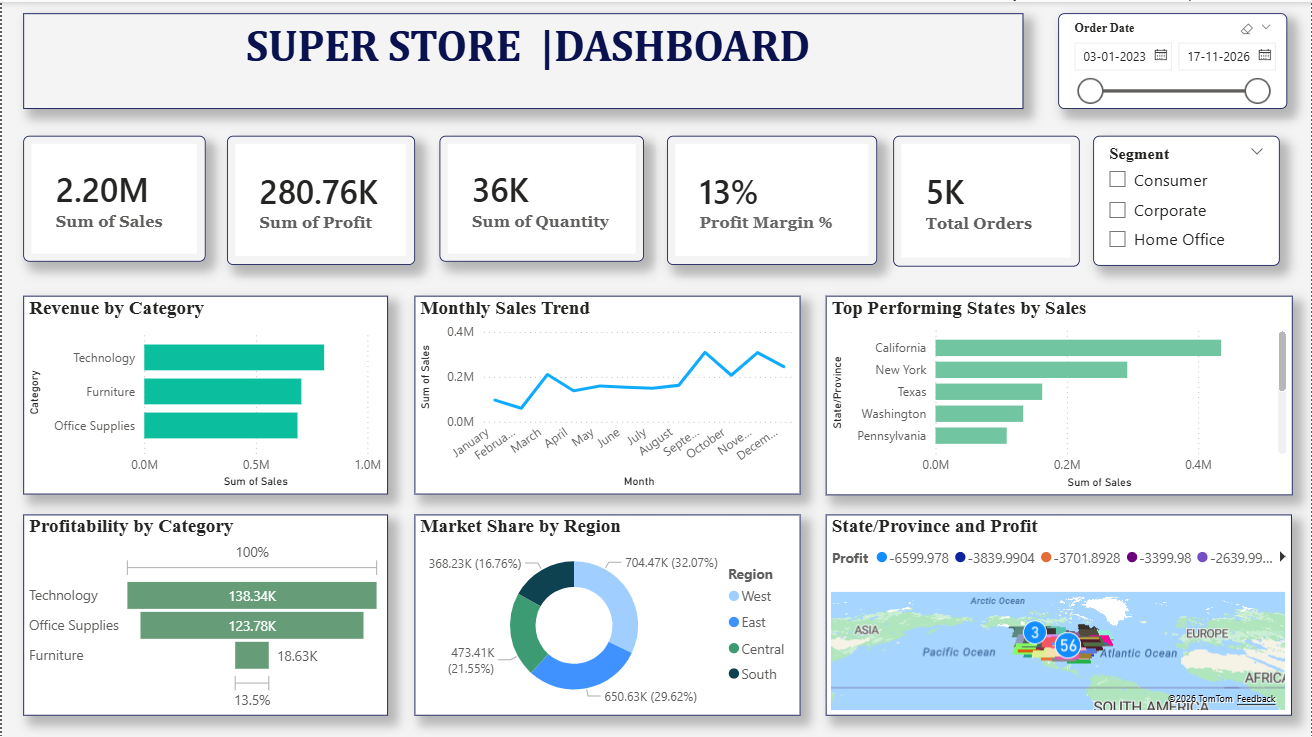

This screenshot's page, from the dashboard's own definition file:
{"tool":"powerbi","page":{"name":"Page 1","canvas":[1280,720],"ordinal":0},"visuals":[{"type":"cardVisual","fields":{"Data":["Sum(Orders.Sales)"]},"box":[20.6,130.4,178.4,123.5],"z":0},{"type":"barChart","title":"Revenue by Category","fields":{"Y":["Sum(Orders.Sales)"],"Category":["Orders.Category"]},"box":[20.8,287.4,357.1,194.4],"z":1000},{"type":"funnel","title":"Profitability by Category","fields":{"Y":["Sum(Orders.Profit)"],"Category":["Orders.Category"]},"box":[20.8,501.4,357.1,196.9],"z":2000},{"type":"clusteredBarChart","title":"Top Performing States by Sales","fields":{"Category":["Orders.State/Province"],"Y":["Sum(Orders.Sales)"]},"box":[805.5,286.8,456.9,194.9],"z":3000},{"type":"cardVisual","fields":{"Data":["Sum(Orders.Profit)"]},"box":[219.6,130.4,183.9,126.2],"z":4000},{"type":"cardVisual","fields":{"Data":["Sum(Orders.Quantity)"]},"box":[428.1,130.4,200.3,123.5],"z":5000},{"type":"donutChart","title":"Market Share by Region","fields":{"Category":["Orders.Region"],"Y":["Sum(Orders.Sales)"]},"box":[403.5,501.4,377.9,196.9],"z":6000},{"type":"azureMap","fields":{"Category":["Orders.State/Province"],"Series":["Orders.Profit"]},"box":[805.8,501.4,456.1,196.9],"z":7000},{"type":"textbox","box":[20.6,11,978.4,93.3],"z":8000},{"type":"lineChart","title":"Monthly Sales Trend","fields":{"Category":["Orders.Order Date.Variation.Date Hierarchy.Month"],"Y":["Sum(Orders.Sales)"]},"box":[403.5,287.4,377.9,194.4],"z":9000},{"type":"cardVisual","fields":{"Data":["Orders.Profit Margin %"]},"box":[650.4,130.4,205.8,126.2],"z":10000},{"type":"slicer","fields":{"Values":["Orders.Order Date"]},"box":[1033.3,11,223.7,93.3],"z":10001},{"type":"slicer","fields":{"Values":["Orders.Segment"]},"box":[1067.5,130.8,182.2,127.2],"z":10002},{"type":"cardVisual","fields":{"Data":["Orders.Total Orders"]},"box":[871.4,130.4,182.5,127.6],"z":10003}]}

Visuals, with their boxes in screenshot pixels (x1, y1, x2, y2), scaled from the page's 1280x720 canvas onto the 1312x737 screenshot:
cardVisual - Sum(Orders.Sales): 21:133:204:260
"Revenue by Category" barChart: 21:294:387:493
"Profitability by Category" funnel: 21:513:387:715
"Top Performing States by Sales" clusteredBarChart: 826:294:1294:493
cardVisual - Sum(Orders.Profit): 225:133:414:263
cardVisual - Sum(Orders.Quantity): 439:133:644:260
"Market Share by Region" donutChart: 414:513:801:715
azureMap - Orders.State/Province x Orders.Profit: 826:513:1293:715
textbox: 21:11:1024:107
"Monthly Sales Trend" lineChart: 414:294:801:493
cardVisual - Orders.Profit Margin %: 667:133:878:263
slicer - Orders.Order Date: 1059:11:1288:107
slicer - Orders.Segment: 1094:134:1281:264
cardVisual - Orders.Total Orders: 893:133:1080:264
